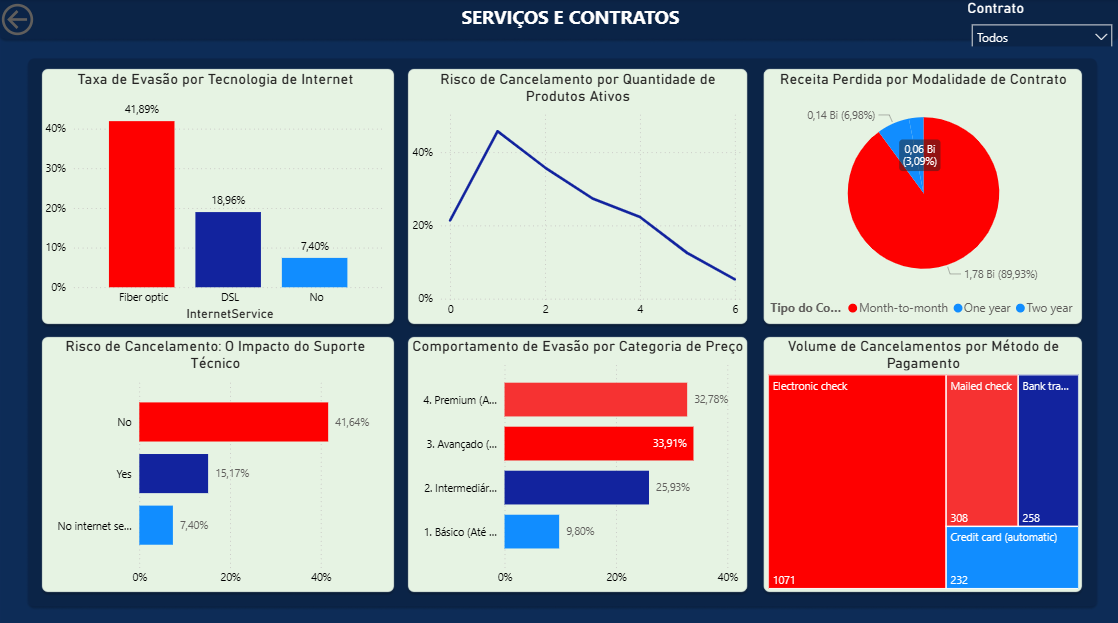

What the dashboard file says about the page in this screenshot:
{"tool":"powerbi","page":{"name":" Serviços e Contratos","canvas":[1280,720],"ordinal":3},"visuals":[{"type":"clusteredColumnChart","title":"Taxa de Evasão por Tecnologia de Internet","fields":{"Category":["public tabela_dim_servicos.InternetService"],"Y":["_Medidas.Taxa de Churn"]},"box":[50.1,80.9,397.6,290.5],"z":0},{"type":"barChart","title":"Risco de Cancelamento: O Impacto do Suporte Técnico","fields":{"Category":["public tabela_dim_servicos.TechSupport"],"Y":["_Medidas.Taxa de Churn"]},"box":[50.1,385.1,397.6,291.6],"z":1000},{"type":"pieChart","title":"Receita Perdida por Modalidade de Contrato","fields":{"Category":["public tabela_dim_contrato.tipocontrato"],"Y":["_Medidas.Receita Perdida"]},"box":[873.8,80.9,363.4,290.5],"z":2000},{"type":"treemap","title":"Volume de Cancelamentos por Método de Pagamento","fields":{"Group":["public tabela_dim_contrato.metodopagamento"],"Values":["_Medidas.Clientes Perdidos"]},"box":[873.8,385.1,363.4,291.6],"z":3000},{"type":"lineChart","title":"Risco de Cancelamento por Quantidade de Produtos Ativos","fields":{"Category":["public tabela_dim_servicos.Qtd Servicos Adicionais"],"Y":["_Medidas.Taxa de Churn"]},"box":[468.2,80.9,387.3,290.5],"z":4000},{"type":"clusteredBarChart","title":"Comportamento de Evasão por Categoria de Preço","fields":{"Category":["public tabela_fato_churn.Faixa de Mensalidade"],"Y":["_Medidas.Taxa de Churn"]},"box":[468.2,385.1,387.3,291.6],"z":5000},{"type":"textbox","box":[524.1,0,275.7,46.7],"z":6000},{"type":"actionButton","box":[0,0,67.2,46.7],"z":7000},{"type":"slicer","title":"Contrato","fields":{"Values":["public tabela_dim_contrato.tipocontrato"]},"box":[1100.5,0,180,53.5],"z":8000}]}

Visuals, with their boxes in screenshot pixels (x1, y1, x2, y2), scaled from the page's 1280x720 canvas onto the 1118x623 screenshot:
"Taxa de Evasão por Tecnologia de Internet" clusteredColumnChart: locate(44, 70, 391, 321)
"Risco de Cancelamento: O Impacto do Suporte Técnico" barChart: locate(44, 333, 391, 586)
"Receita Perdida por Modalidade de Contrato" pieChart: locate(763, 70, 1081, 321)
"Volume de Cancelamentos por Método de Pagamento" treemap: locate(763, 333, 1081, 586)
"Risco de Cancelamento por Quantidade de Produtos Ativos" lineChart: locate(409, 70, 747, 321)
"Comportamento de Evasão por Categoria de Preço" clusteredBarChart: locate(409, 333, 747, 586)
textbox: locate(458, 0, 699, 40)
actionButton: locate(0, 0, 59, 40)
"Contrato" slicer: locate(961, 0, 1117, 46)
